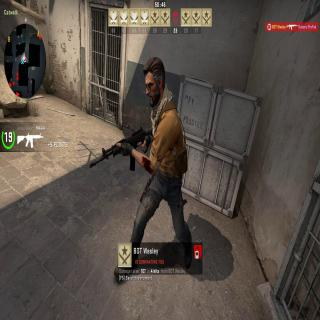T-Body: (132, 55, 194, 277)
T-Head: (142, 57, 166, 111)
